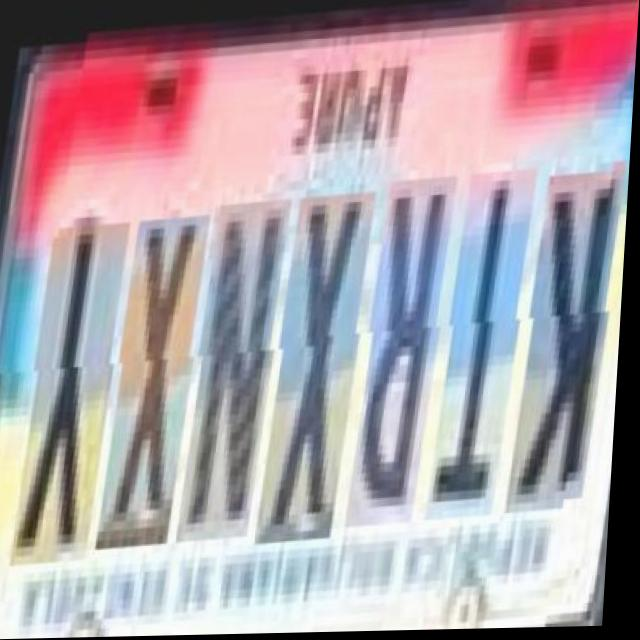k: (504, 172, 620, 515)
n: (175, 195, 286, 538)
r: (344, 175, 451, 526)
t: (424, 169, 531, 520)
x: (254, 190, 370, 541), (95, 210, 204, 543)
y: (9, 215, 125, 558)
